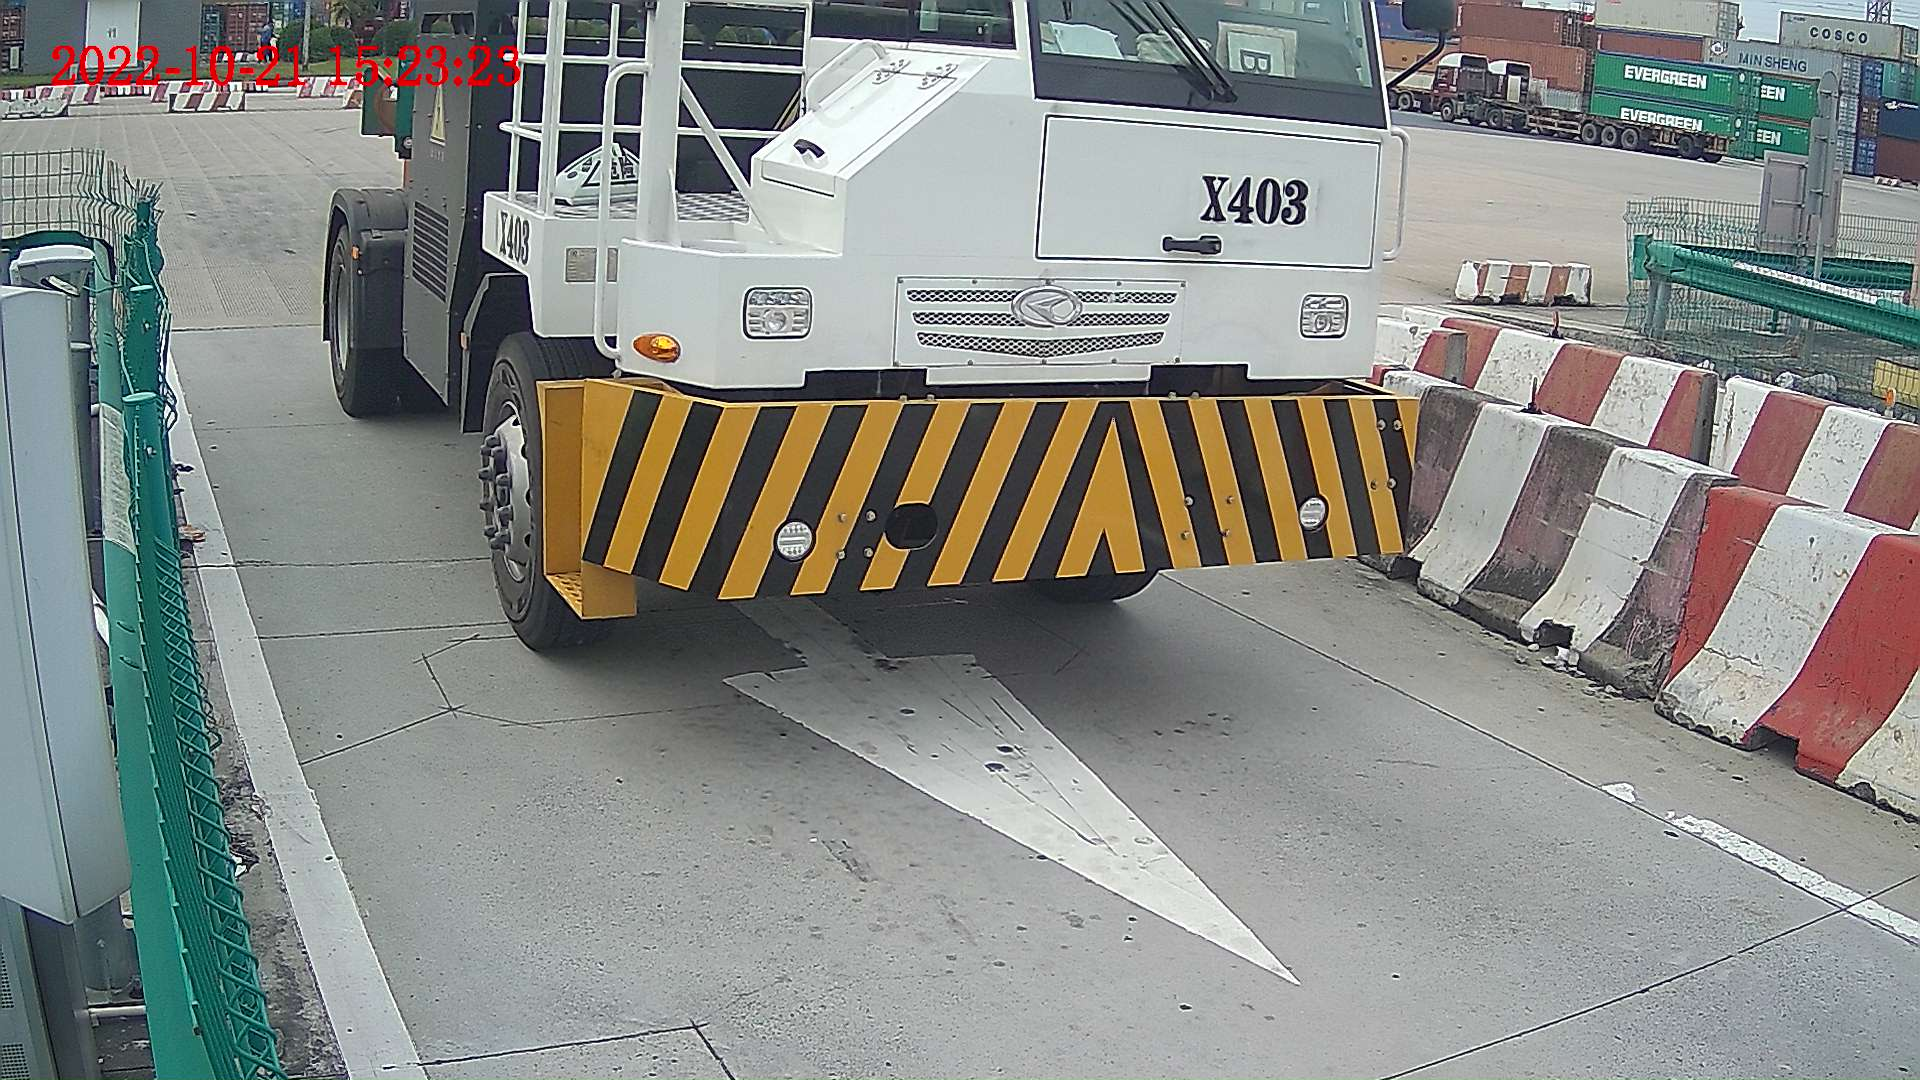head: (486, 1, 1413, 651)
